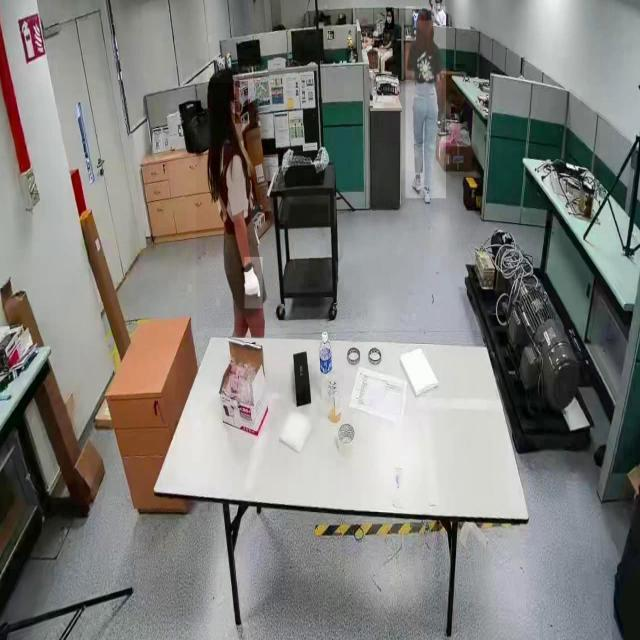gloves: (244, 256, 264, 310)
